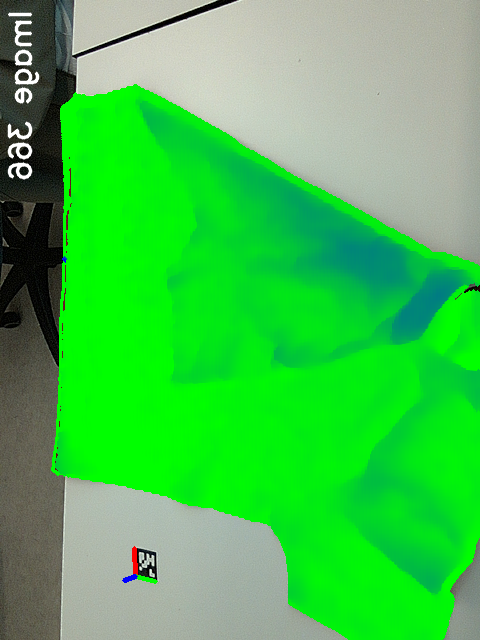V: (326, 465, 387, 527), (157, 338, 210, 393)
